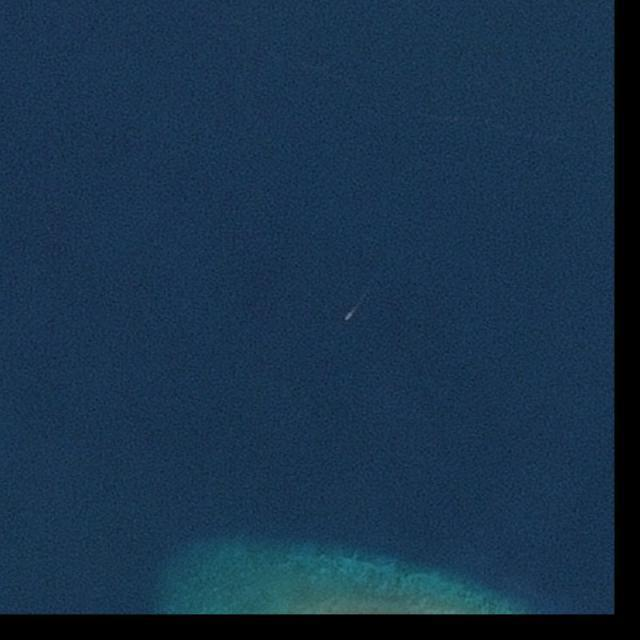ship: (345, 312, 354, 322)
